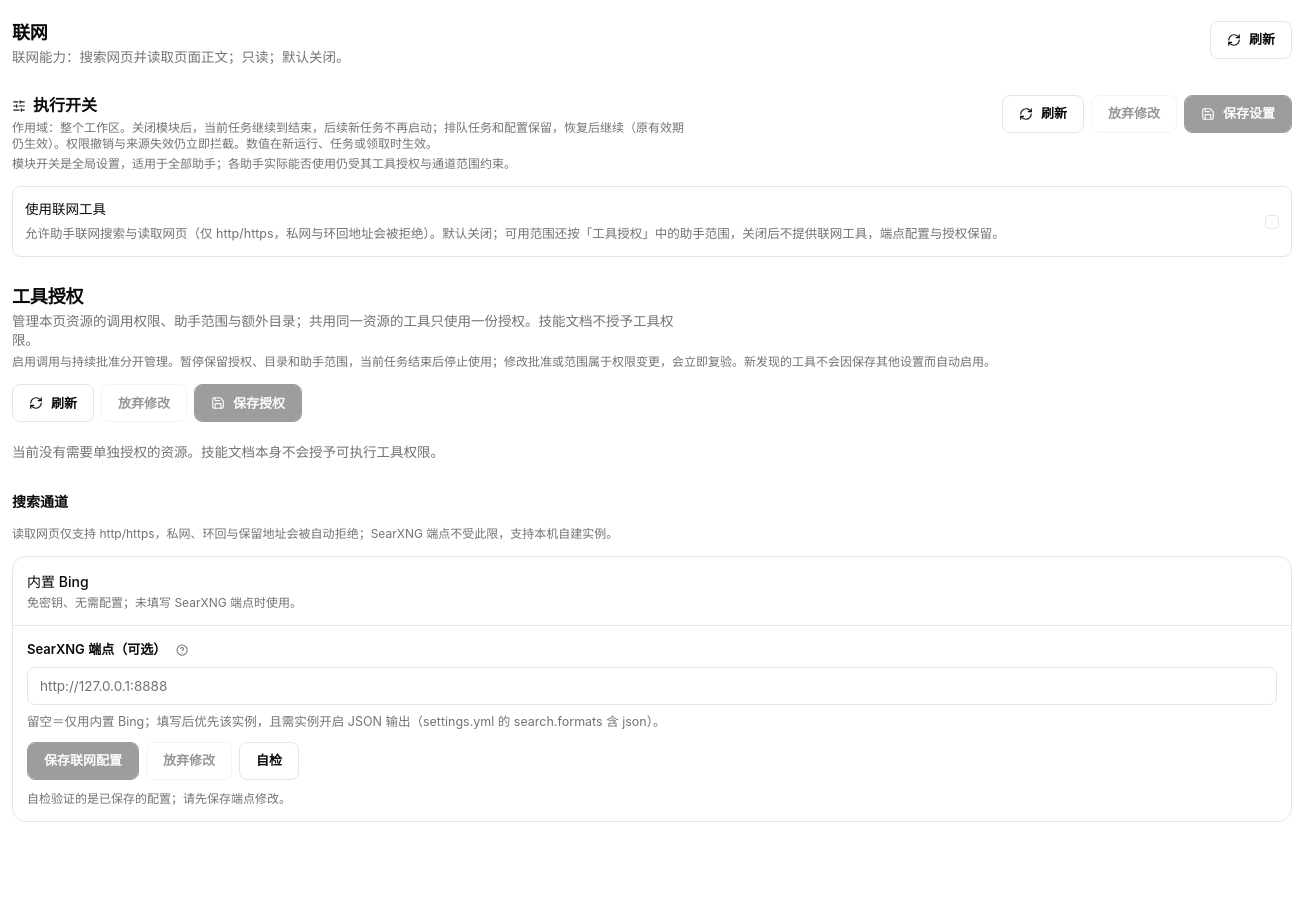
Scenario: web access panel guards › hides the saved notice as soon as the endpoint is edited again
The image size is (1304, 900).
Type "http://127.0.0.1:9999" into the field labelled "SearXNG 端点（可选）" at {"x": 652, "y": 686}, box [27,666,1277,704]
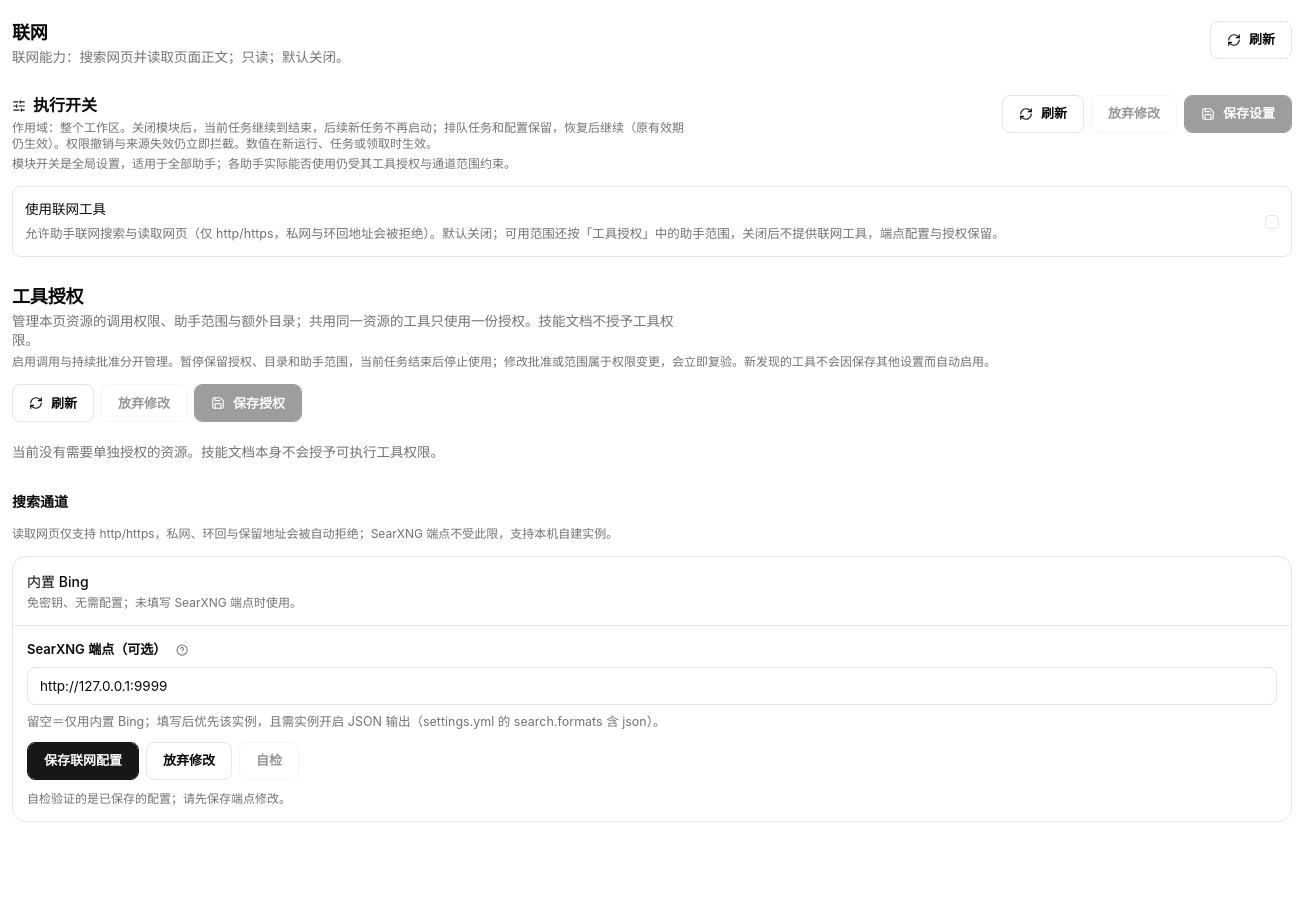
Click the button "保存联网配置" at {"x": 83, "y": 761}, box [27,742,139,780]
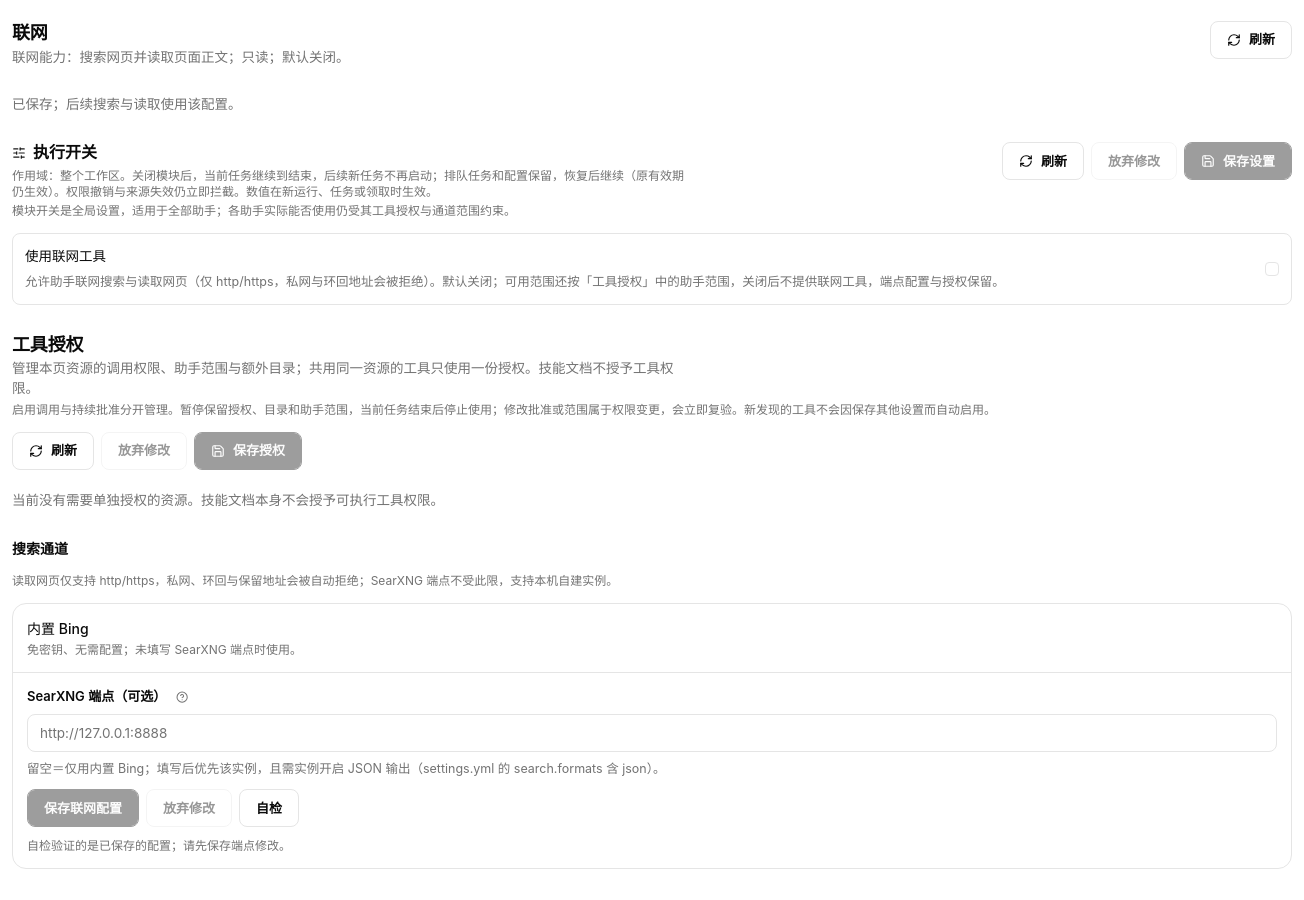
Result: the message shows "已保存" at [12,96,242,112]
Type "http://127.0.0.1:7777" into the field labelled "SearXNG 端点（可选）" at {"x": 652, "y": 733}, box [27,714,1277,752]
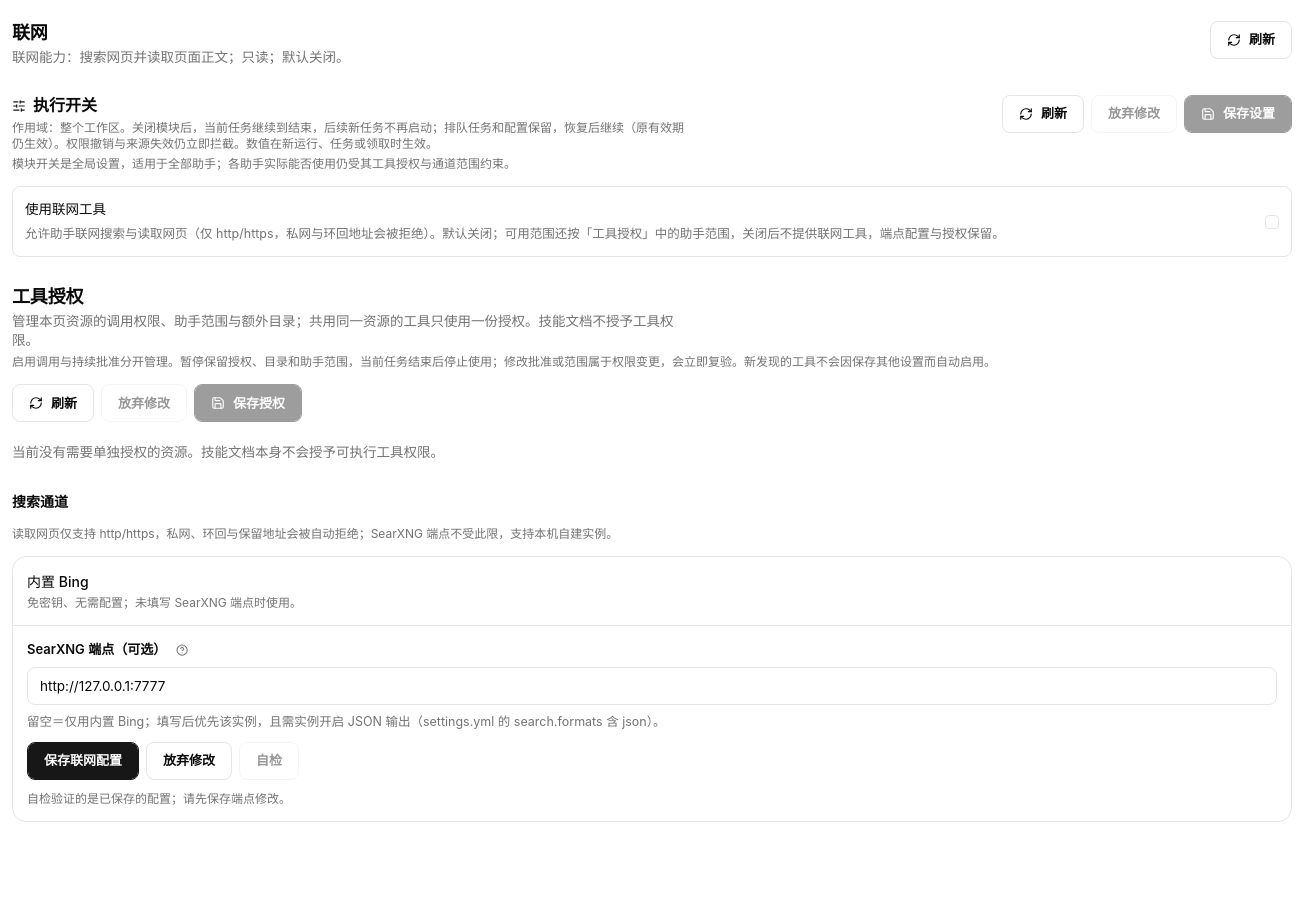
Result: the message "已保存；后续搜索与读取使用该配置。" is gone
